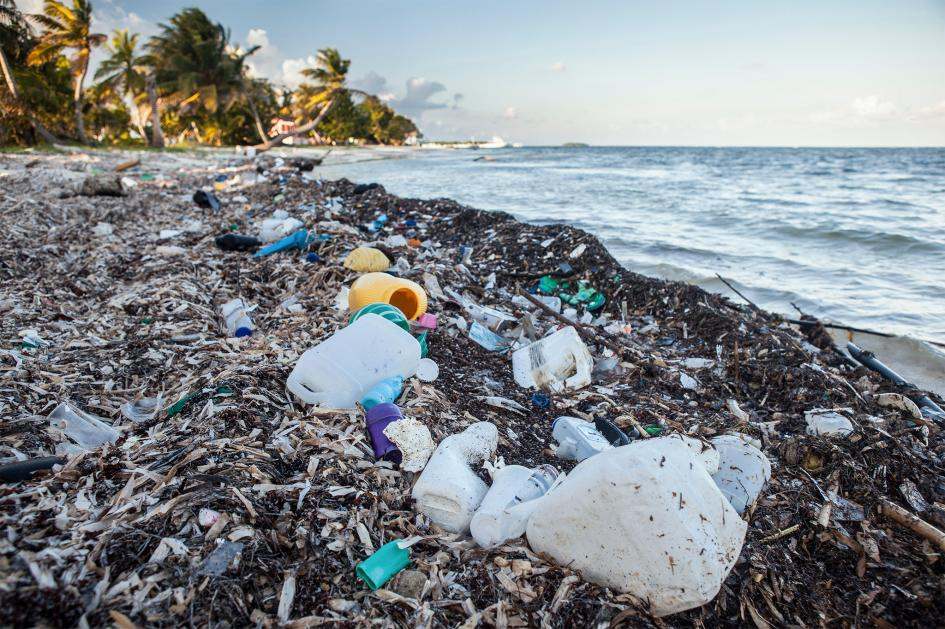litter: (515, 420, 783, 613), (269, 297, 463, 424), (396, 406, 501, 530), (463, 442, 575, 551), (500, 320, 609, 407), (337, 259, 444, 320), (349, 529, 422, 596), (240, 214, 330, 262), (800, 391, 857, 454)
